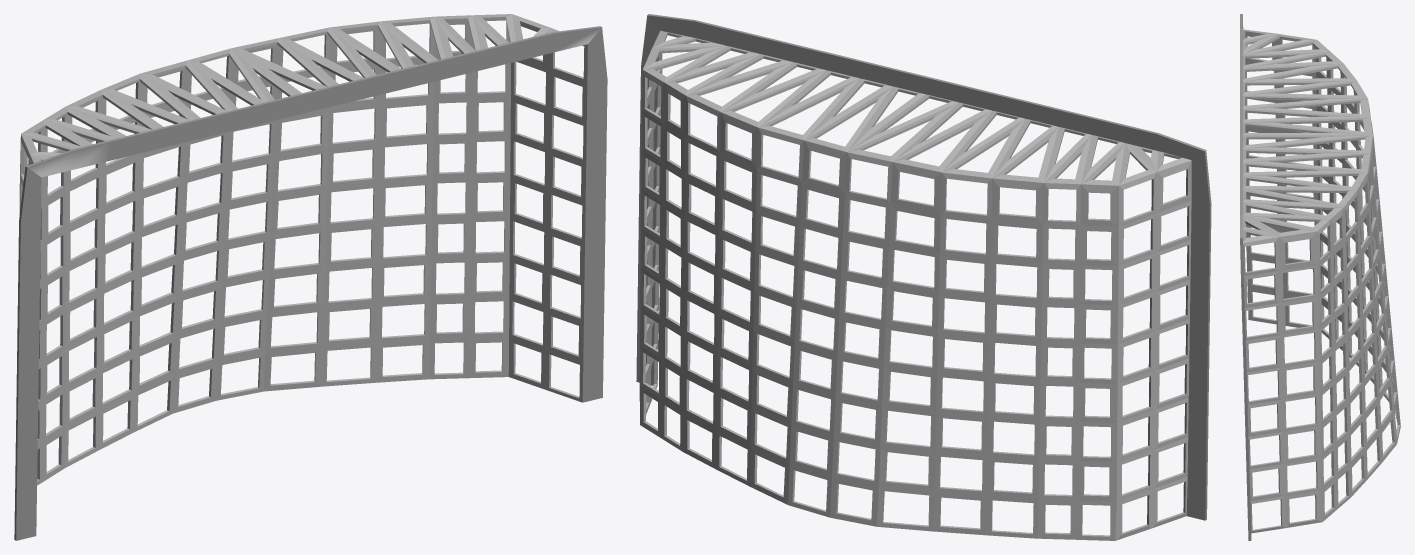
The model's file is Goal_1.fbx.
3 renders of one model, left to right at view 1: azimuth 30°, elevation 25°; view 2: azimuth 150°, elevation 25°; view 3: azimuth 270°, elevation 25°, orthographic. The views are drawn at different scales.
Parts seen in each view (by area): view 1: Goal_1; view 2: Goal_1; view 3: Goal_1.
Boxes of the visible parts, x1,y1,x2,y2 form: Goal_1: (14, 14, 607, 540); Goal_1: (636, 14, 1211, 540); Goal_1: (1240, 14, 1400, 540).
Size of the model in its own units: 196 by 122 by 58.3.
